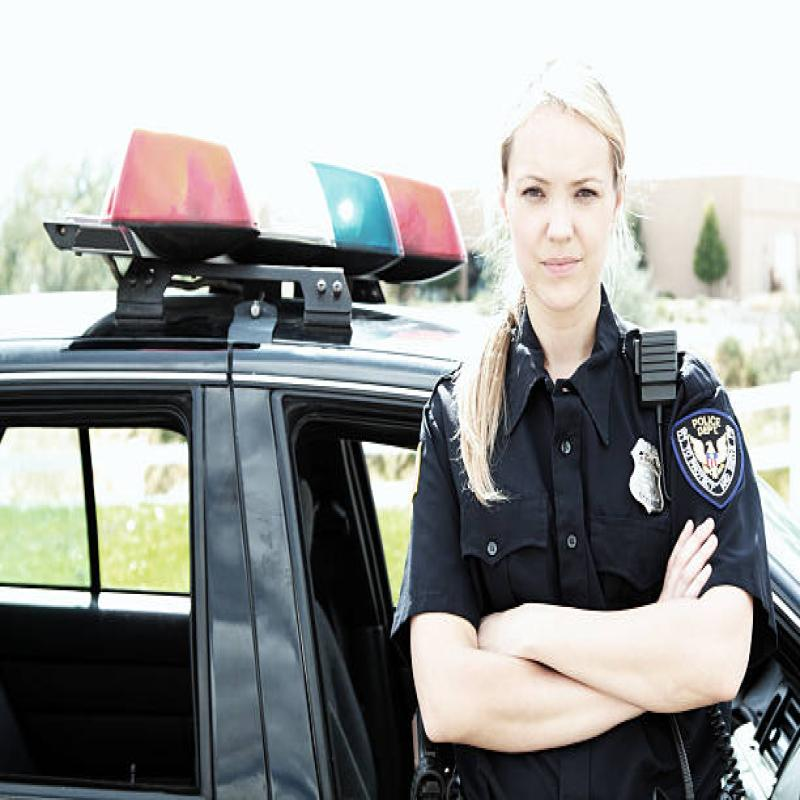AmbulanceSiren: (55, 97, 473, 316)
